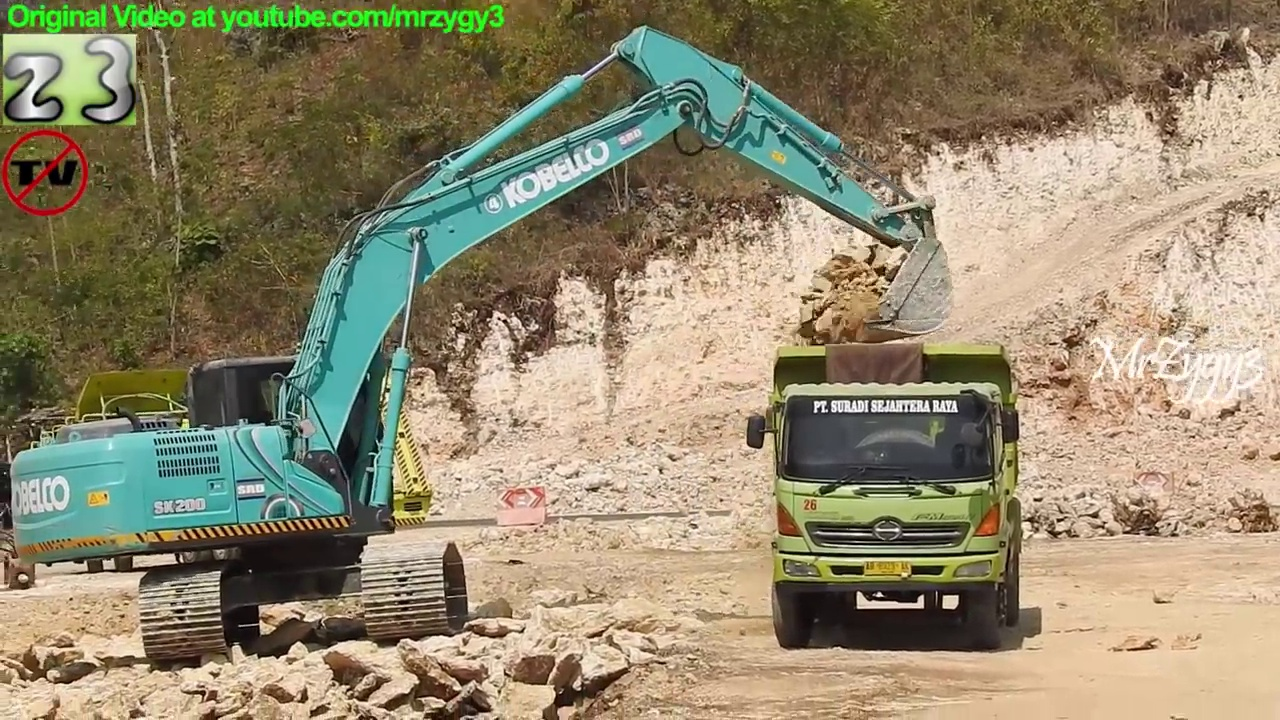excavator: (5, 21, 957, 674)
truck: (1, 358, 443, 578), (744, 338, 1026, 650)
